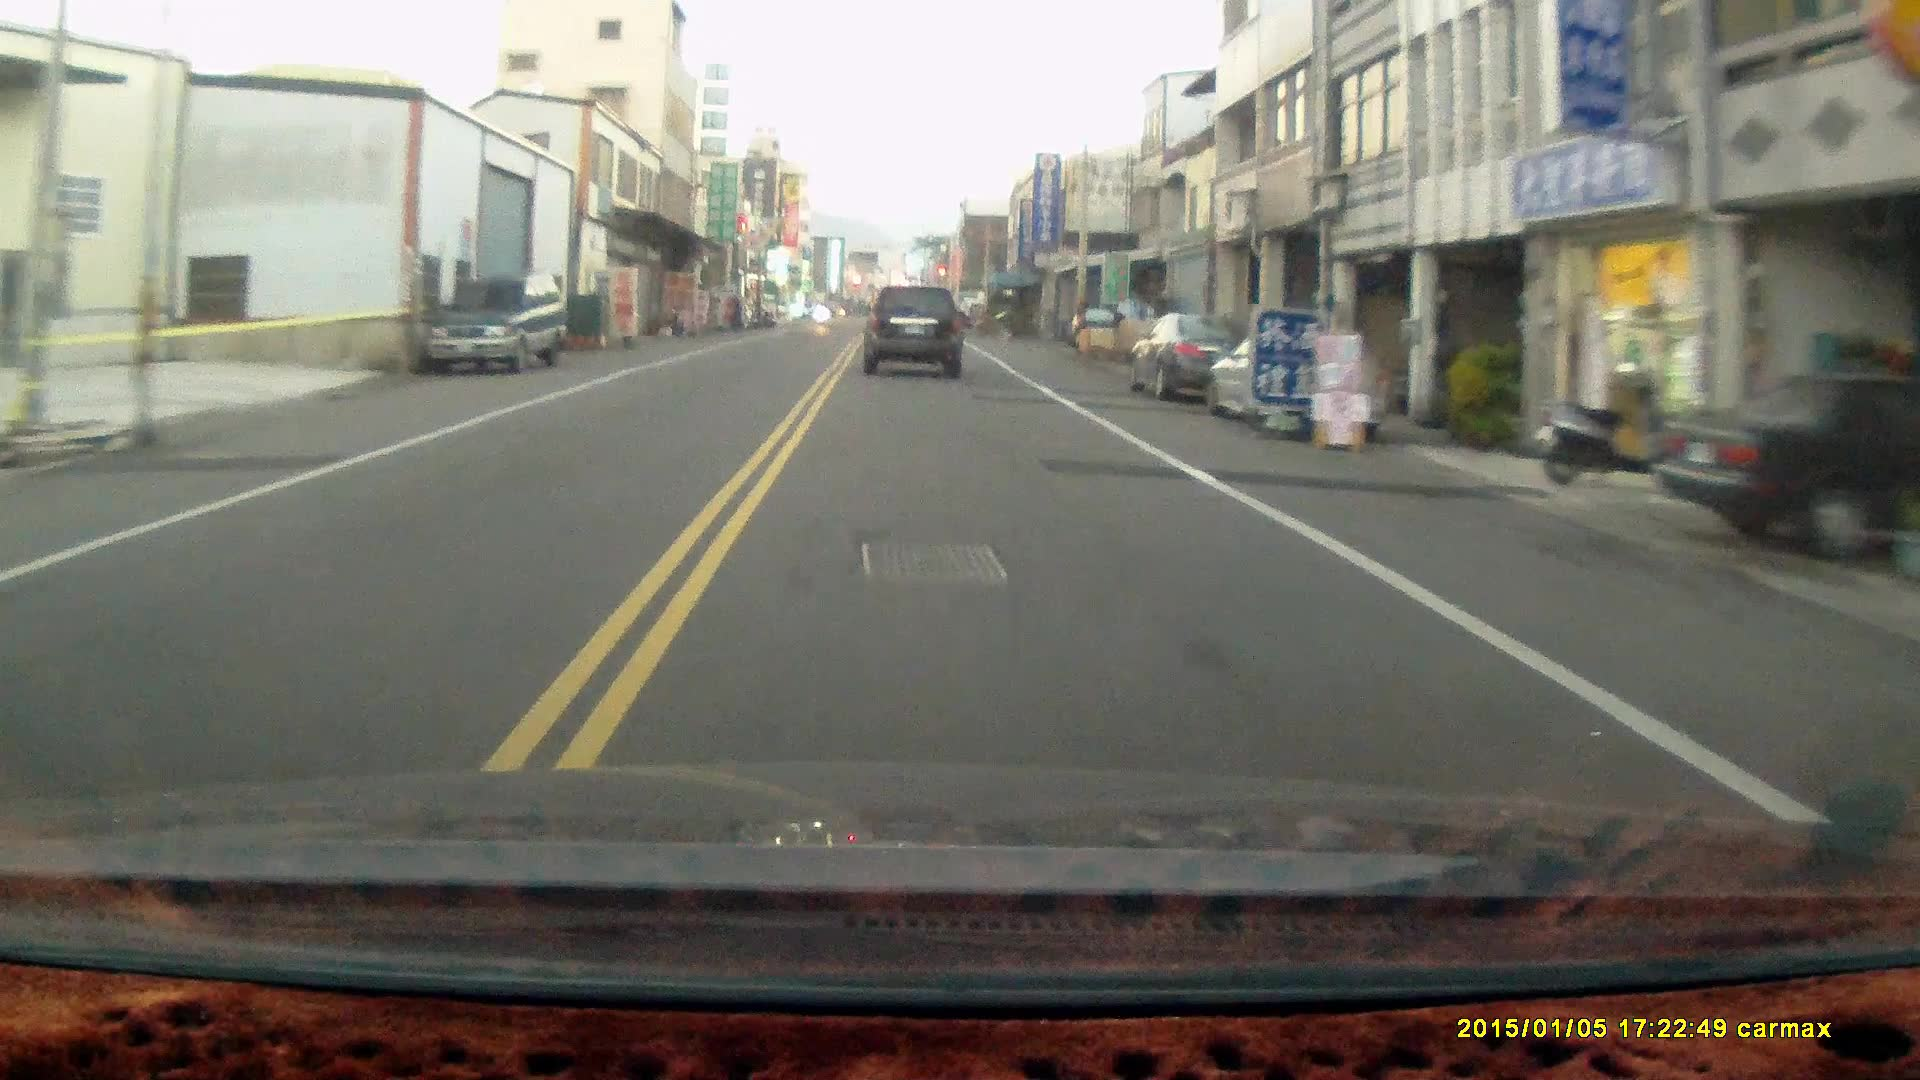vehicle: (1642, 372, 1920, 560), (1207, 335, 1395, 446), (427, 273, 570, 376), (1126, 310, 1269, 404), (862, 284, 967, 378)
